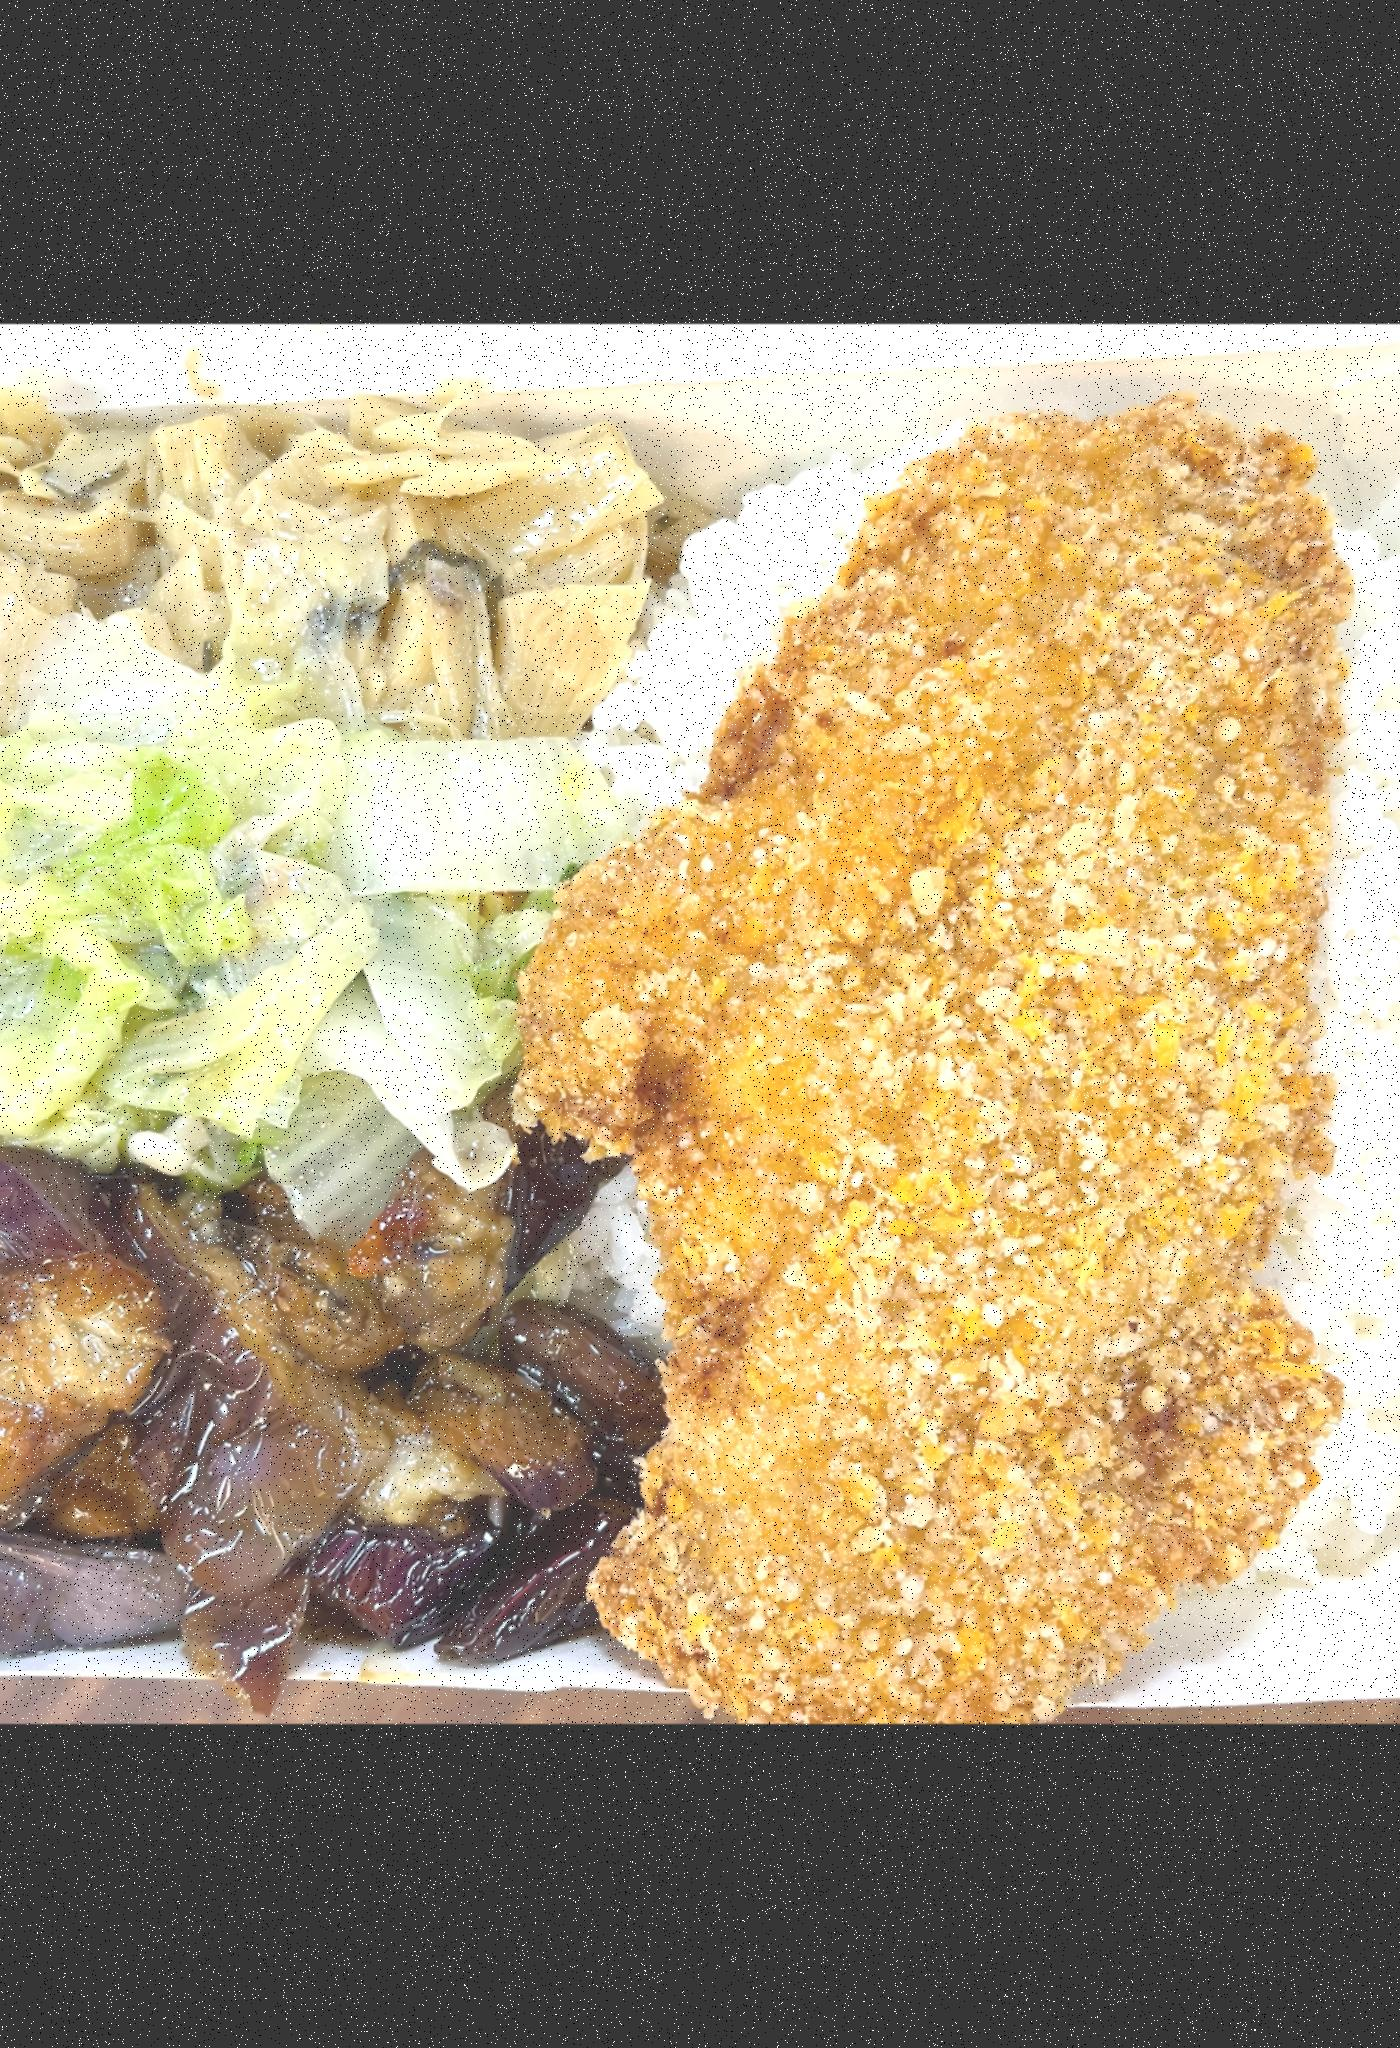big grilled chicken leg: (0, 324, 1400, 1717)
big herbal chicken leg: (660, 423, 1400, 1617)
braised fish fillet: (0, 1163, 642, 1671), (0, 677, 586, 1187), (0, 380, 686, 749)
braised pork: (590, 395, 1350, 1720)
